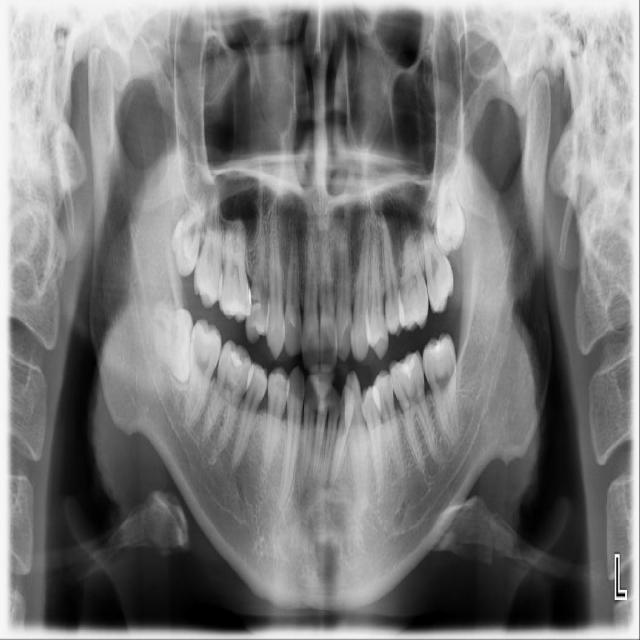Filling: (223, 344, 251, 373), (393, 354, 416, 377), (427, 333, 447, 358)
impacted tooth: (145, 309, 190, 381), (434, 153, 465, 252)
